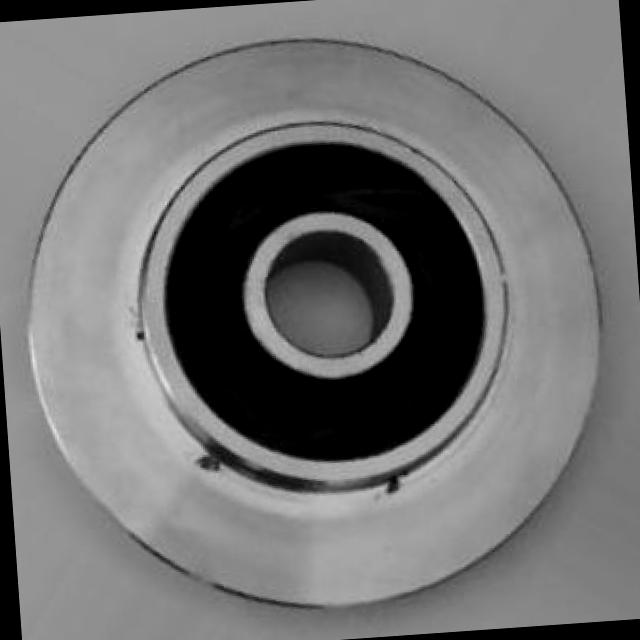Defect: (192, 443, 228, 486)
